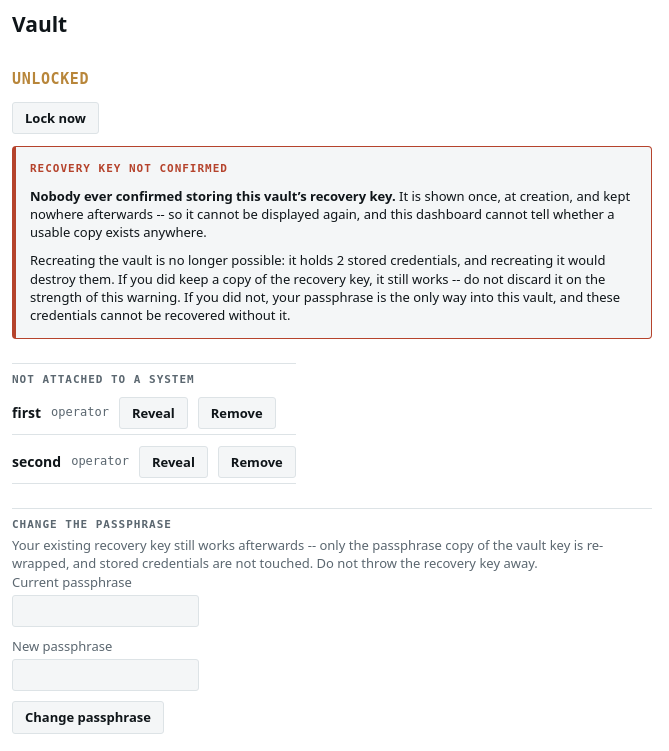
Test: VaultPanel › exposure limits on a revealed secret (fix round 1) › revealing a second credential hides the first
The width and height of the screenshot is (669, 751).
Click the button with test id "reveal-c1" at (153, 413), box [119,396,188,429]
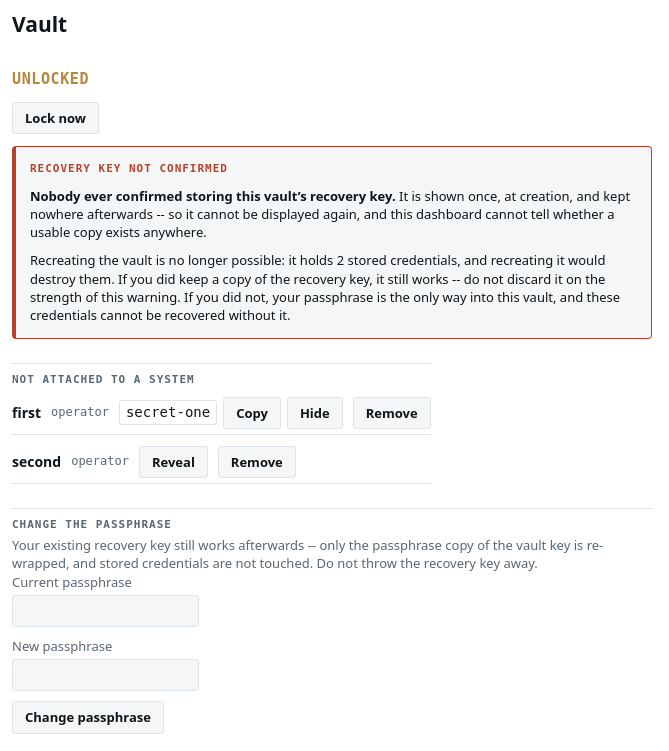
Expected: the text "secret-one" is shown, [119,400,217,425]
Click the button with test id "reveal-c2" at (173, 462), box [139,446,208,478]
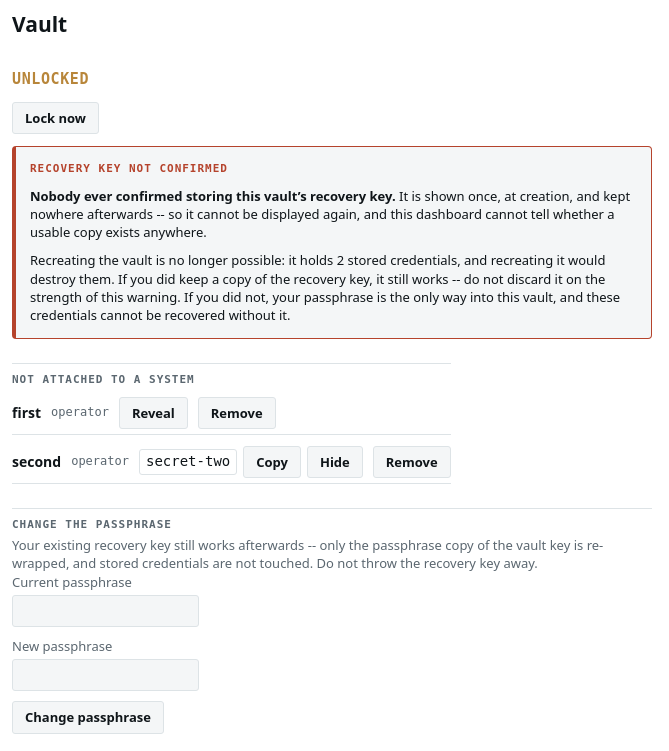
Expected: the text "secret-one" is gone
Expected: the text "secret-two" is shown, [139,449,237,475]
Expected: the button with test id "reveal-c1" is shown, [119,396,188,429]
